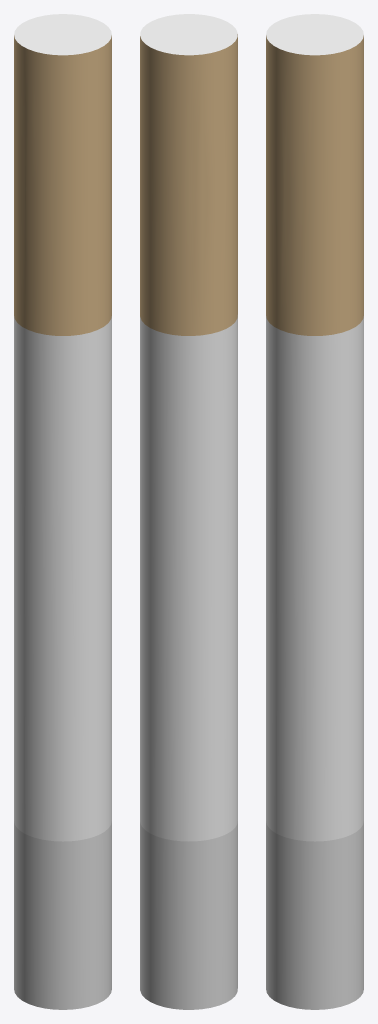
File: タバコ1本分離 1.fbx
3 renders of one model, left to right at view 1: azimuth 90°, elevation 25°; view 2: azimuth 150°, elevation 25°; view 3: azimuth 270°, elevation 25°, orthographic.
Visible parts, largest first — view 1: Body, Body.001; view 2: Body, Body.001; view 3: Body, Body.001.
Boxes of the visible parts, box(x1,y1,x2,y2) form: Body: box(14, 14, 111, 841); Body.001: box(14, 821, 111, 1009); Body: box(140, 14, 237, 841); Body.001: box(140, 821, 237, 1009); Body: box(266, 14, 363, 841); Body.001: box(266, 821, 363, 1009).
Size of the model in its own units: 0.79 by 8.5 by 0.79.
